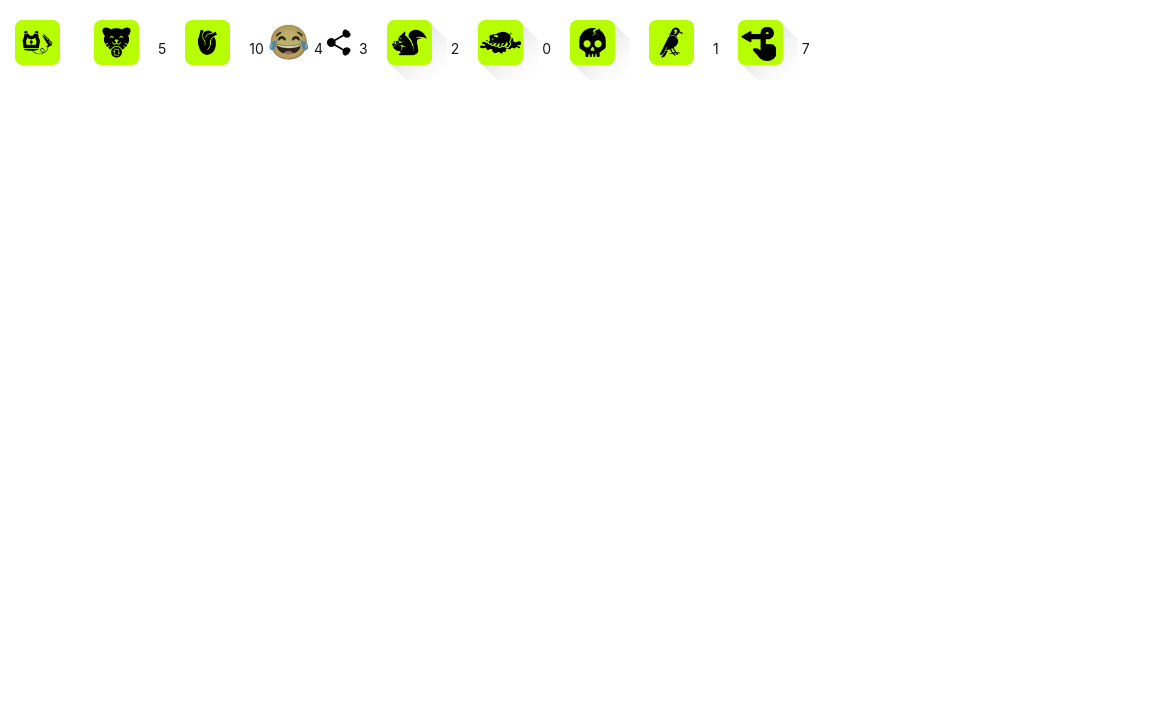
Test: PostActions › opens slop modal when slop button is clicked
Click the button titled "Mark as Slop" at (501, 42), box [463, 5, 538, 80]
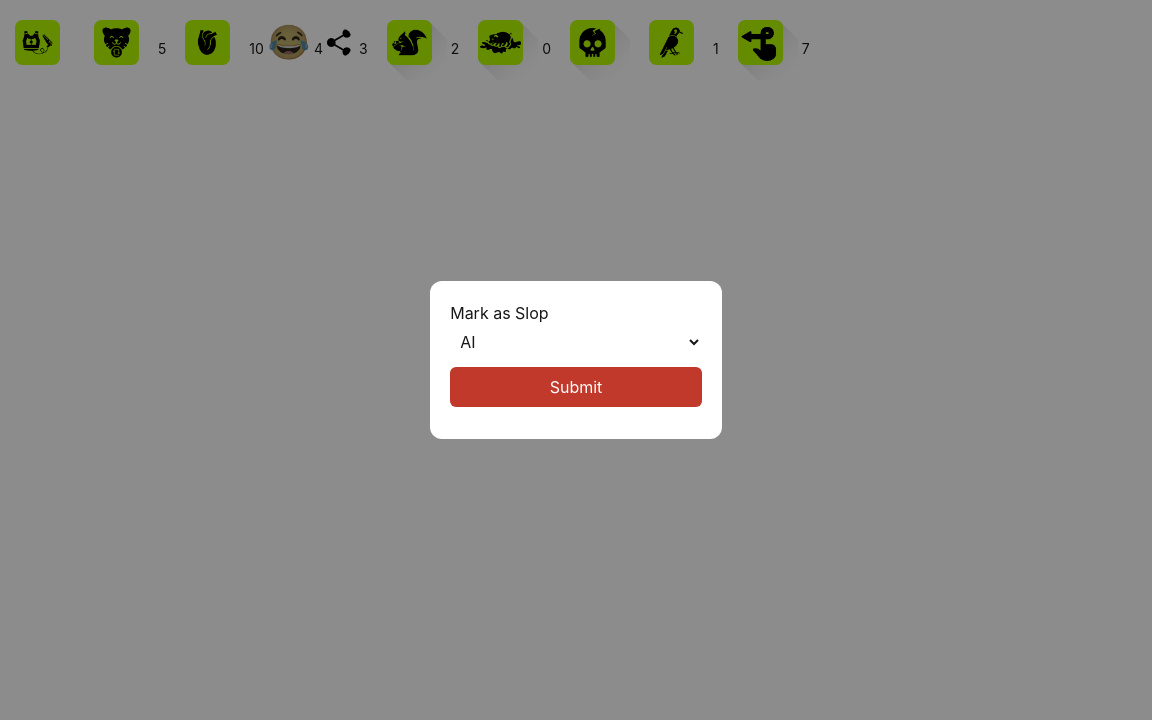
Check: the heading "Mark as Slop" is shown, box [450, 303, 549, 323]
Check: the dropdown is shown, box [450, 325, 702, 359]
Check: the button "Submit" is shown, box [450, 367, 702, 407]
